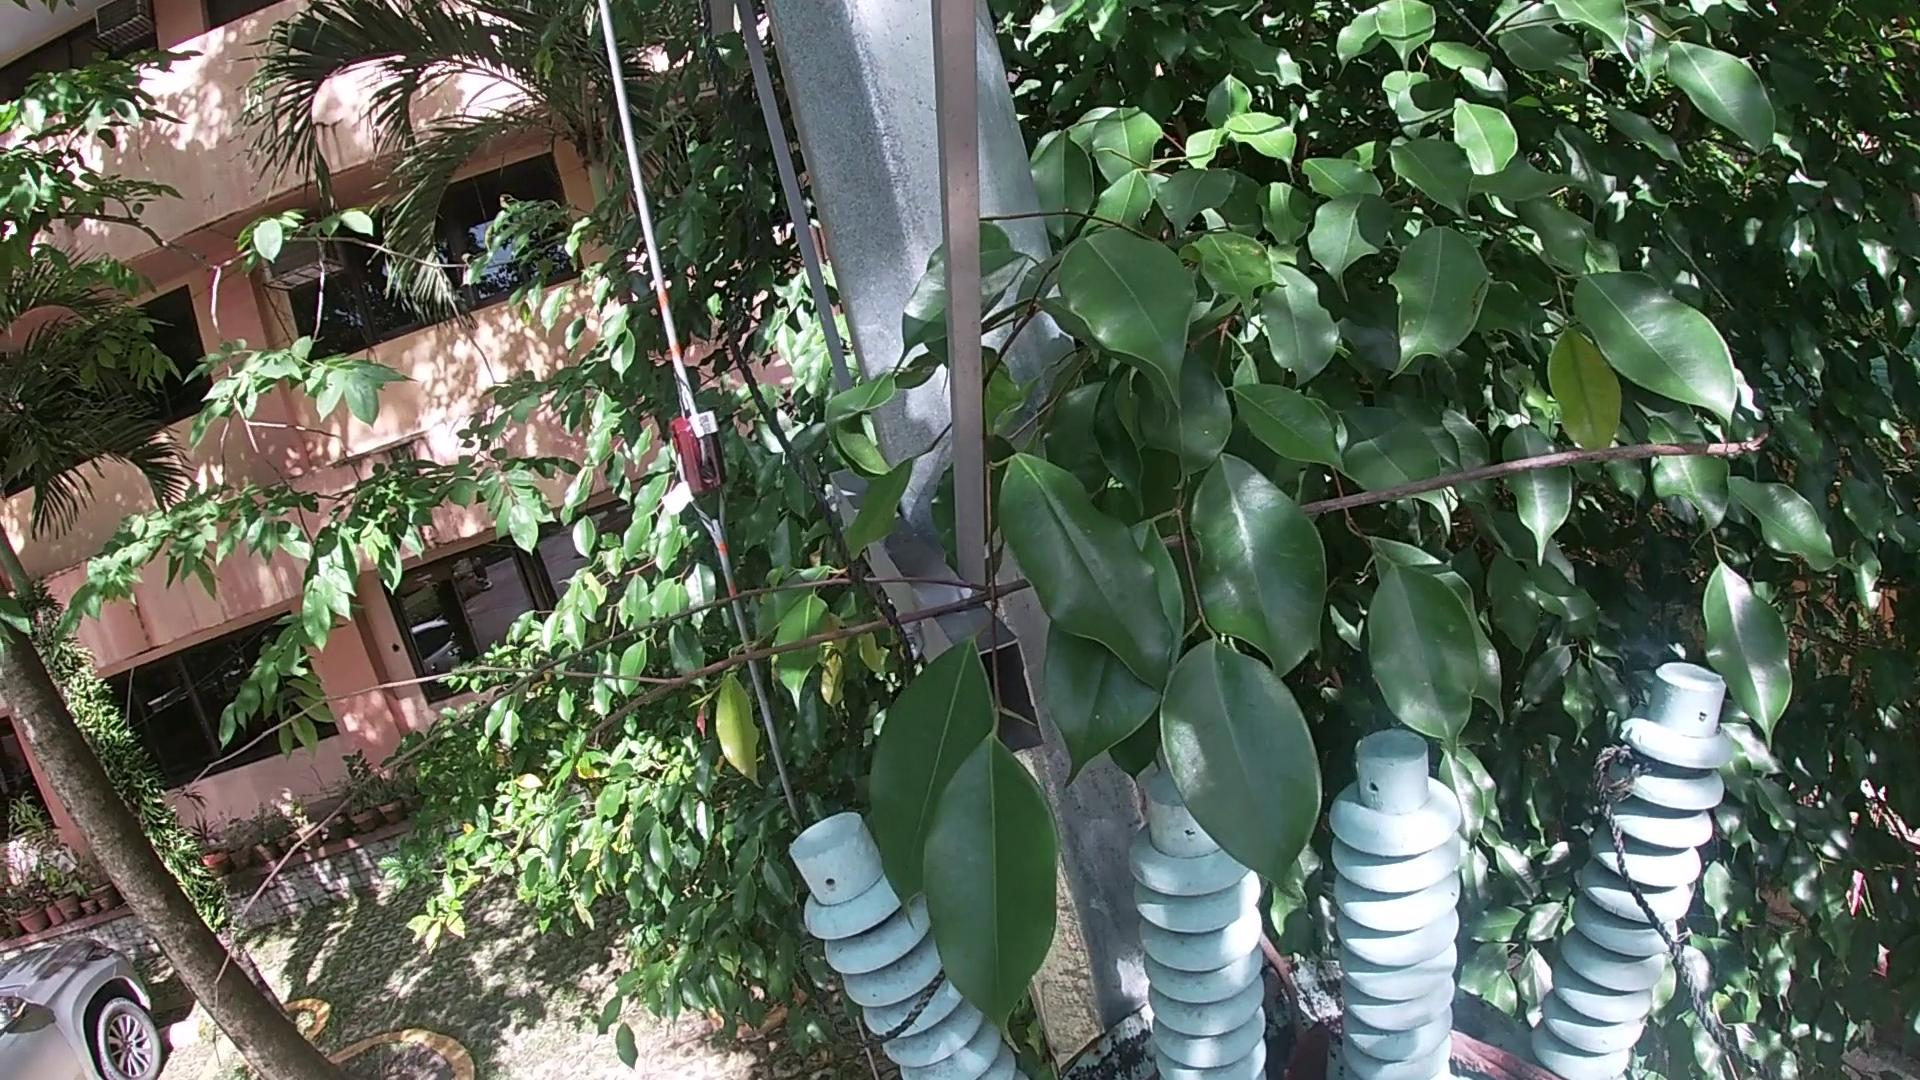mahogany fruit: (1294, 1022, 1335, 1080)
tree branch: (123, 426, 1801, 1077), (1448, 1027, 1565, 1077), (1261, 930, 1313, 1026), (1266, 952, 1302, 1021)
